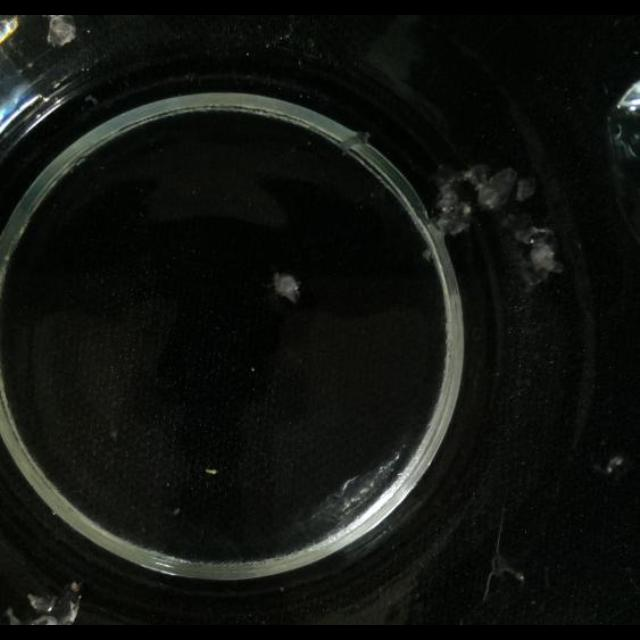Fibre: (420, 154, 532, 232), (510, 229, 562, 291), (15, 581, 80, 625), (47, 16, 77, 48), (340, 131, 372, 157)
Fragment: (3, 88, 42, 138), (272, 272, 300, 302)
